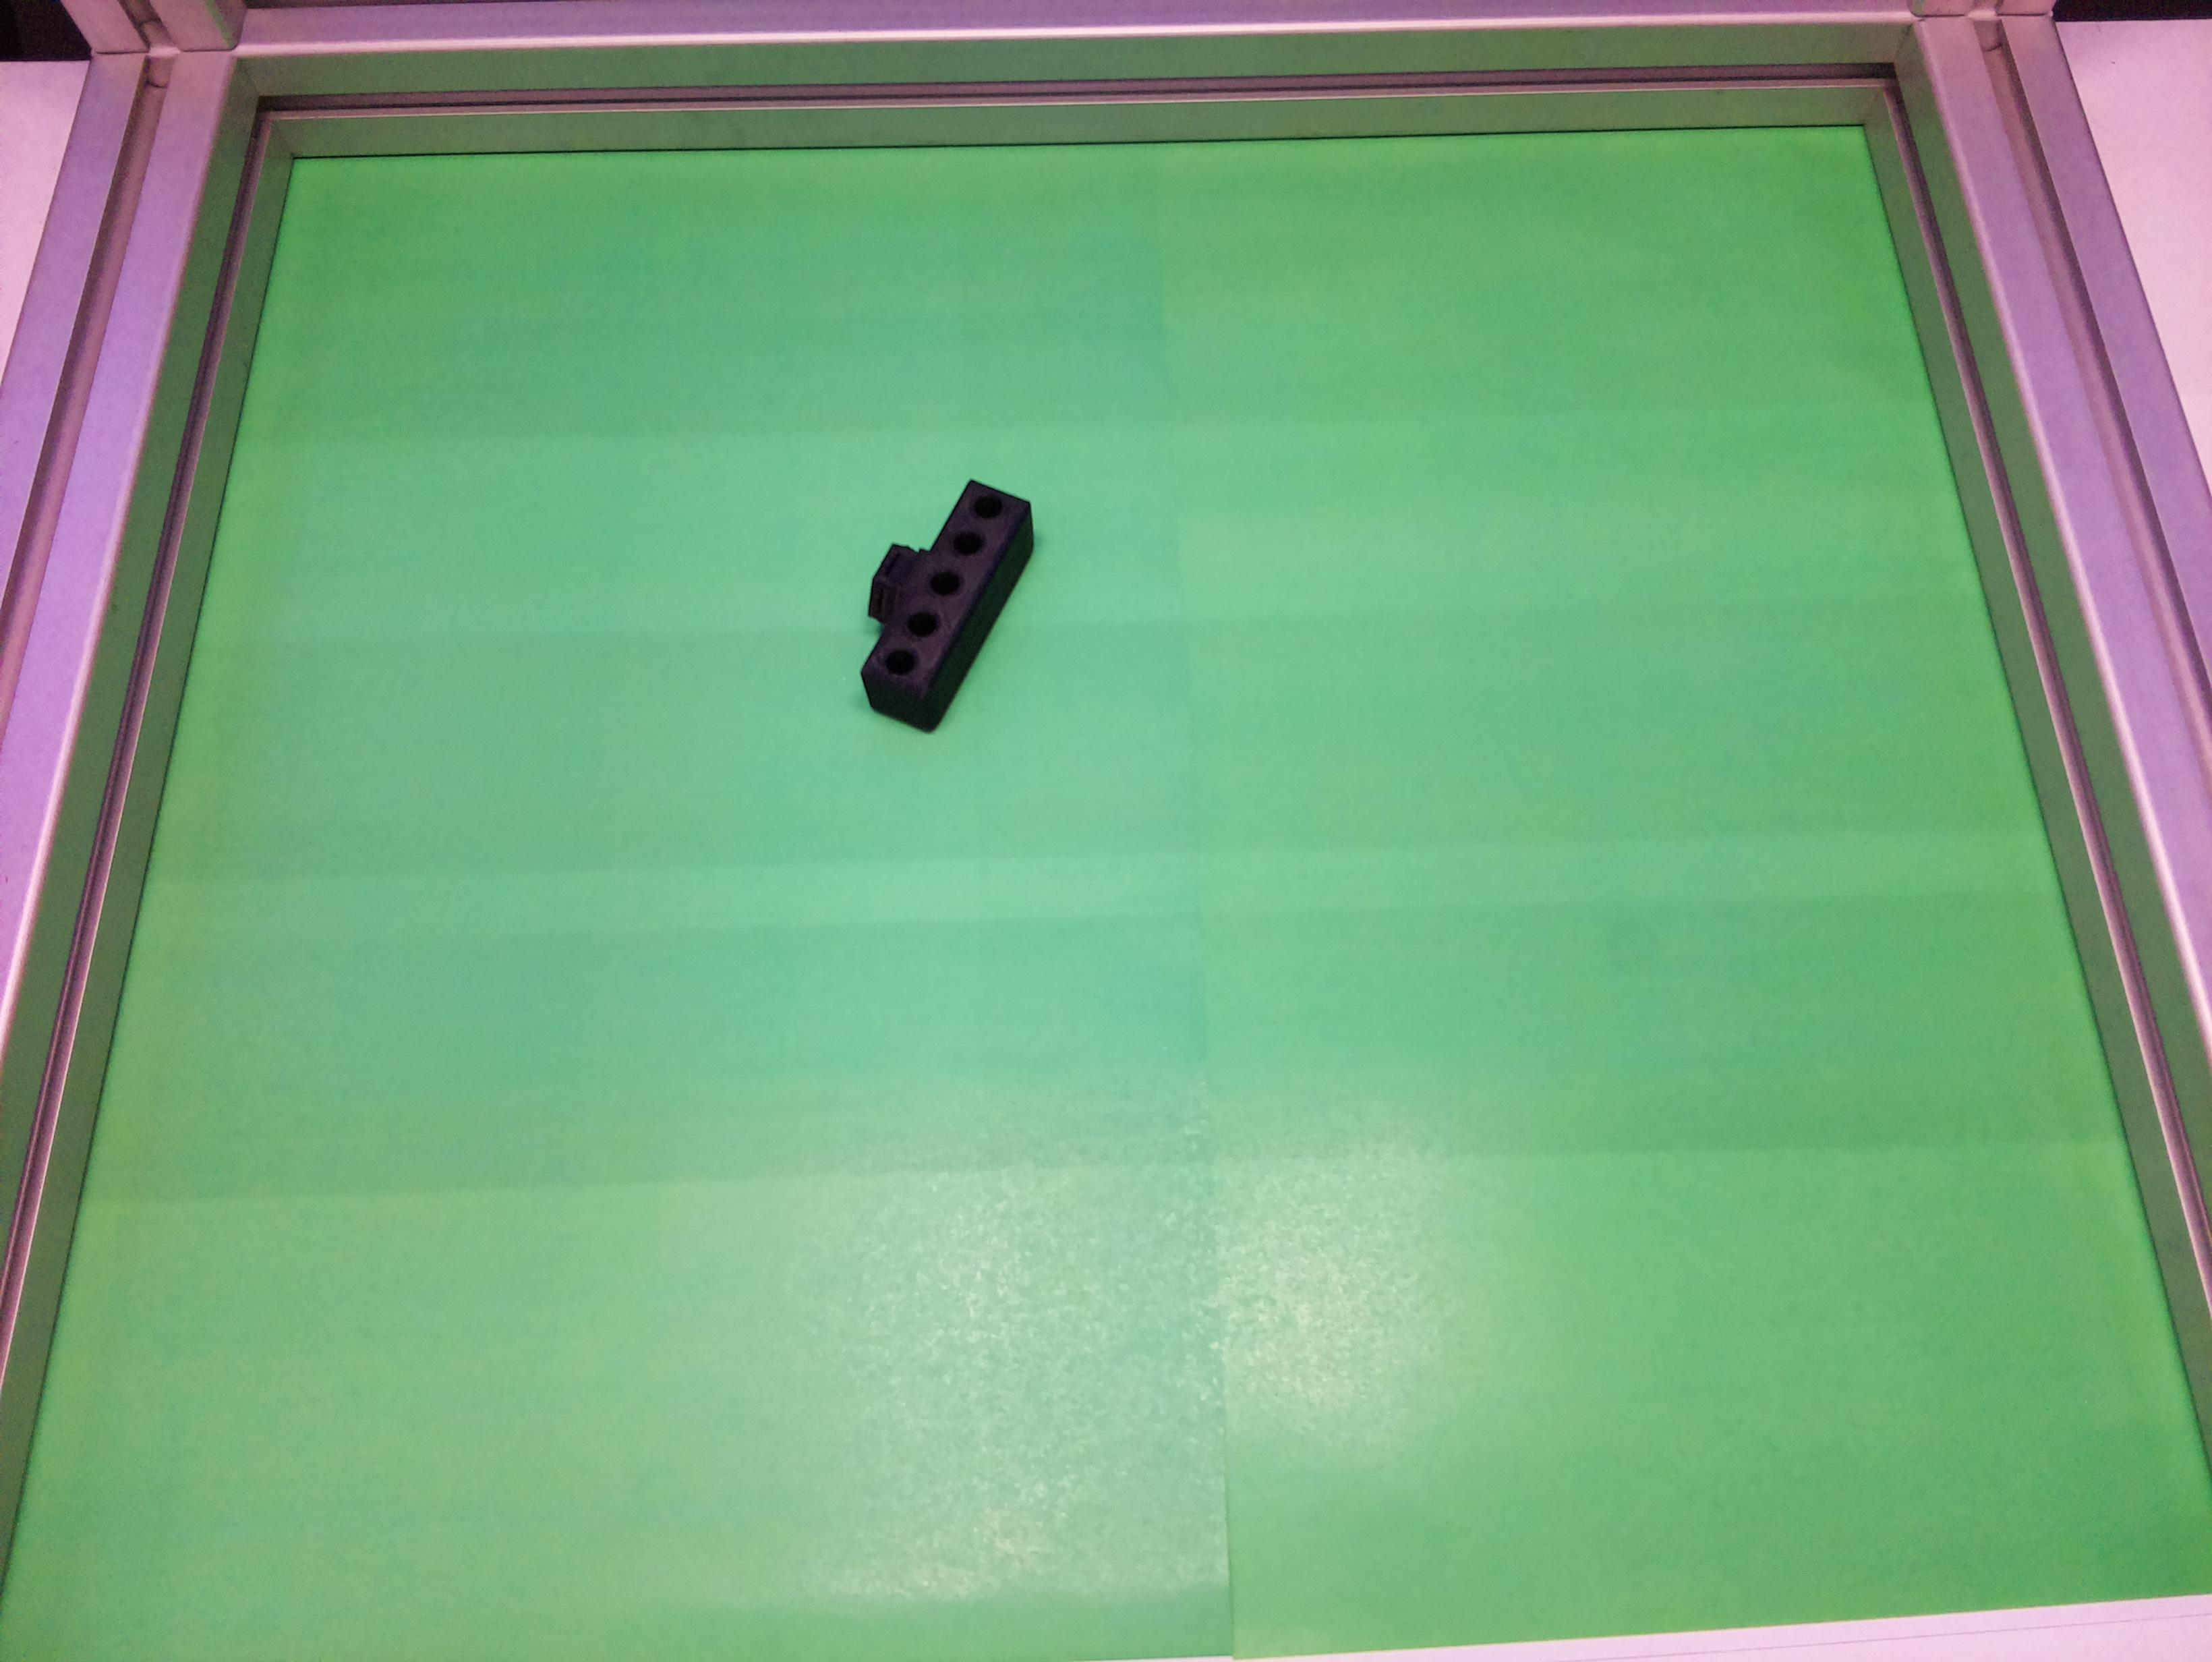bit_holder: (818, 455, 1053, 741)
